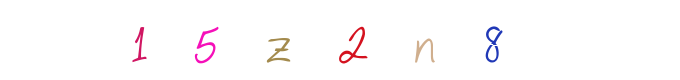1: (161, 0, 241, 80)
2: (300, 0, 380, 80)
5: (240, 0, 320, 80)
8: (452, 0, 532, 80)
N: (309, 0, 389, 80)
Z: (246, 0, 326, 80)
